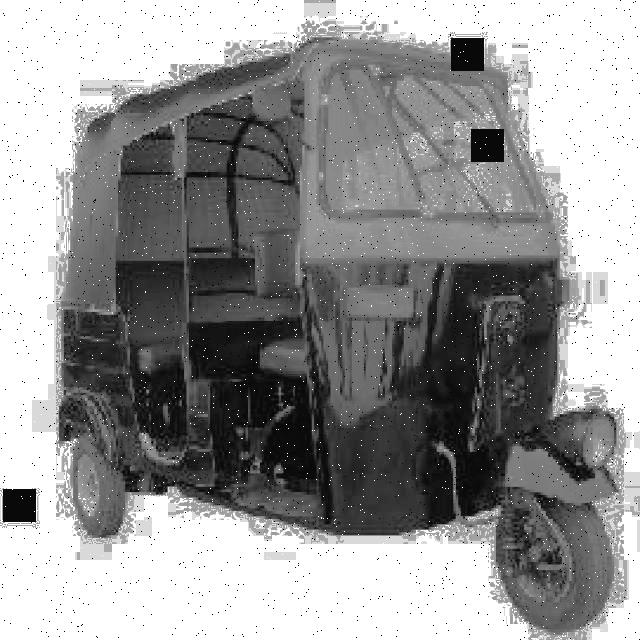Auto-Rickshaw: (42, 83, 640, 623)
